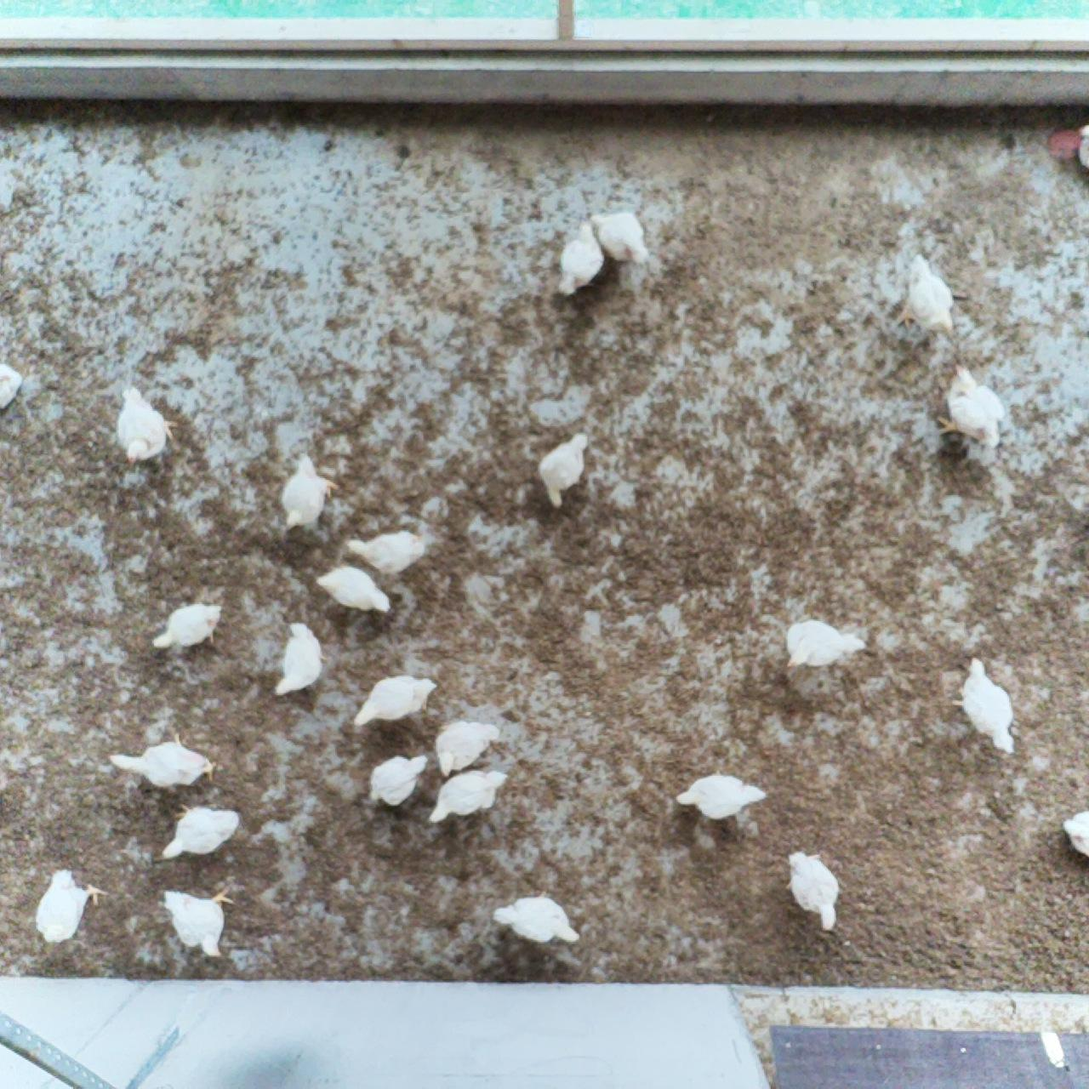chicken: (946, 647, 1021, 763), (931, 357, 1006, 455), (107, 728, 219, 792), (891, 250, 964, 344), (31, 864, 113, 945), (488, 881, 584, 950), (111, 380, 183, 470), (160, 879, 238, 961), (268, 445, 339, 533), (352, 668, 440, 737), (670, 767, 771, 827), (777, 611, 871, 674), (782, 845, 845, 937), (158, 799, 243, 866), (268, 617, 333, 700), (425, 766, 509, 830), (431, 713, 506, 782), (535, 423, 593, 512), (309, 562, 395, 621), (554, 215, 610, 301), (148, 597, 226, 657), (341, 526, 429, 575), (588, 205, 653, 269), (366, 748, 432, 810), (1057, 803, 1089, 858), (0, 361, 26, 416)
